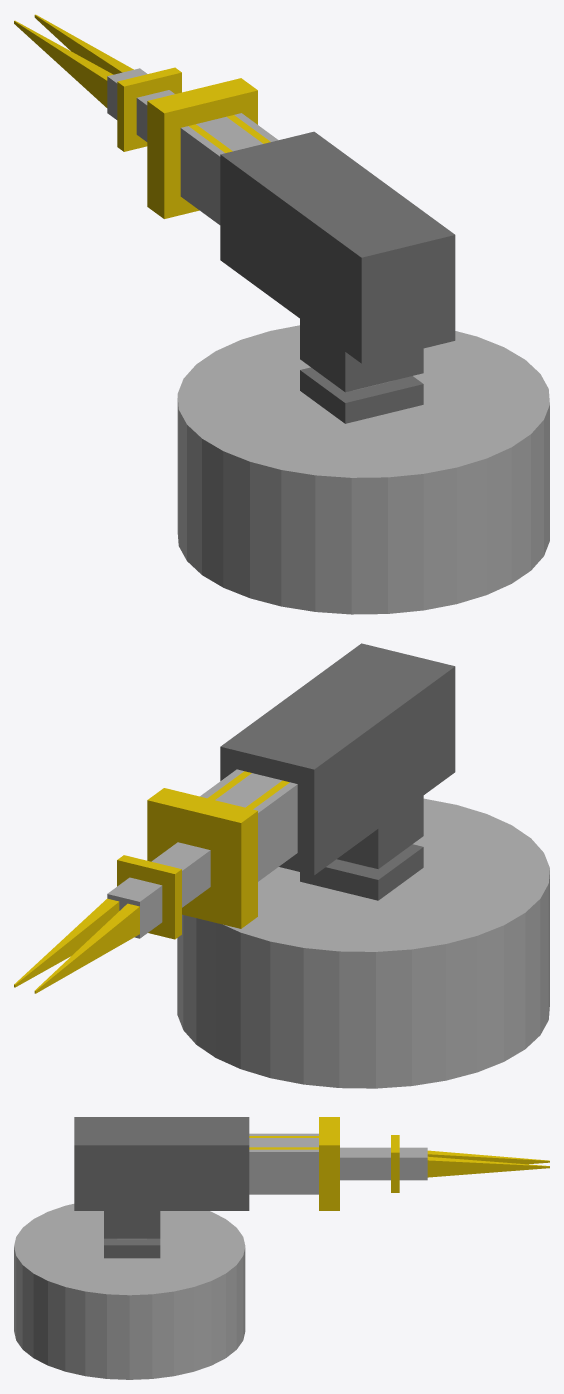
The model's file is turret2.fbx.
3 renders of one model, top to bottom at view 1: azimuth 30°, elevation 25°; view 2: azimuth 150°, elevation 25°; view 3: azimuth 270°, elevation 25°, orthographic. The views are drawn at different scales.
Visible parts, largest first — view 1: Cylinder; view 2: Cylinder; view 3: Cylinder.
Boxes of the visible parts, <box> form: Cylinder: <box>14,14,549,614</box>; Cylinder: <box>14,643,549,1088</box>; Cylinder: <box>14,1117,549,1379</box>.
Size of the model in its own units: 160 by 152 by 371.
